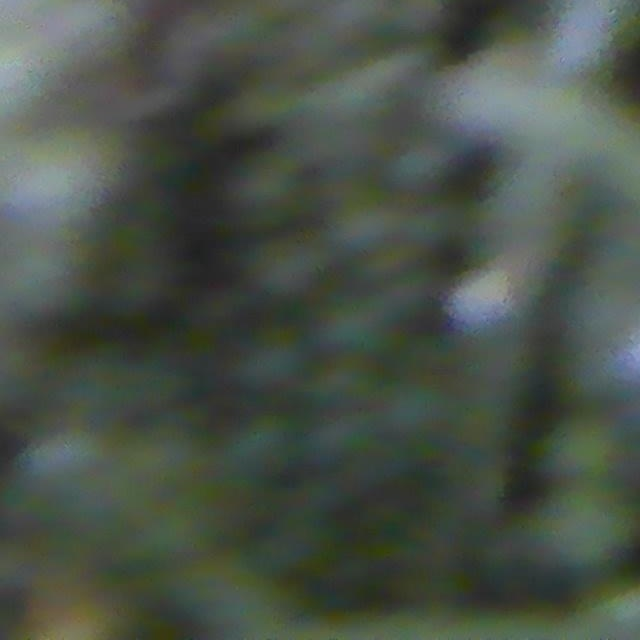SeaGrape: (536, 480, 639, 572), (542, 413, 621, 485)
